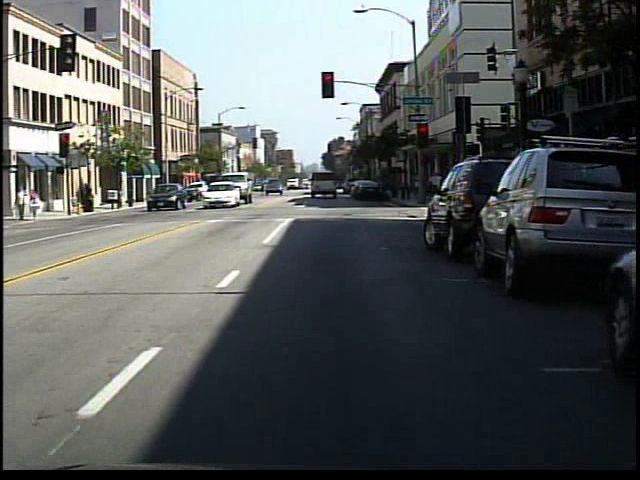person: (13, 183, 31, 225), (28, 185, 45, 220)
